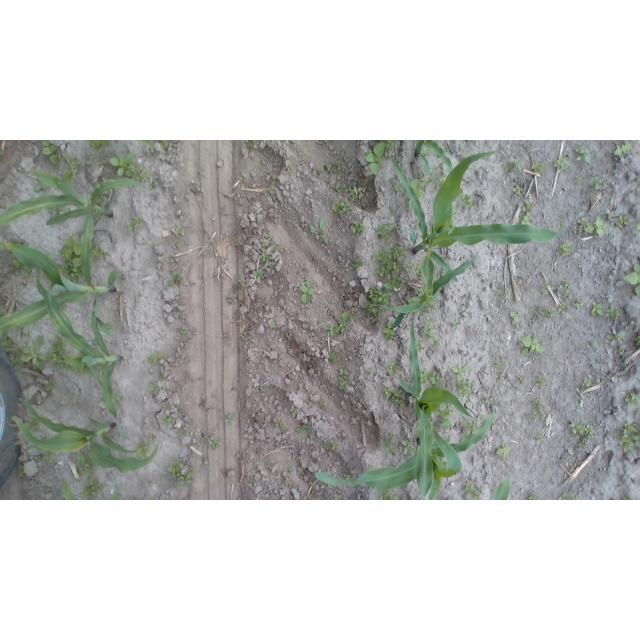Maize: (390, 151, 563, 283), (315, 395, 495, 499), (1, 214, 119, 337), (399, 320, 474, 501), (36, 276, 125, 418), (11, 391, 159, 474), (378, 230, 479, 329), (0, 169, 150, 226), (415, 141, 454, 180), (494, 474, 510, 500), (61, 477, 76, 500), (136, 141, 158, 150)
Weeds: (376, 242, 413, 291), (18, 335, 49, 368), (367, 287, 392, 325), (568, 421, 596, 452), (60, 234, 81, 274), (418, 320, 441, 351), (109, 152, 135, 179), (327, 311, 352, 339), (451, 363, 471, 397), (620, 421, 640, 454), (308, 216, 331, 244), (366, 143, 385, 176), (168, 460, 194, 484), (622, 263, 640, 297), (558, 278, 573, 315), (519, 336, 546, 356), (40, 140, 61, 165), (586, 216, 609, 238), (525, 398, 545, 422), (61, 154, 79, 180), (1, 336, 15, 369), (420, 369, 445, 387), (259, 232, 273, 264), (75, 452, 92, 477), (384, 387, 407, 405), (50, 335, 63, 366), (301, 279, 316, 304), (83, 480, 100, 499), (534, 305, 555, 319), (575, 148, 593, 164), (331, 199, 349, 215), (556, 240, 572, 258), (465, 484, 483, 500), (554, 156, 570, 173), (613, 143, 631, 158), (625, 391, 640, 409), (616, 213, 630, 232), (383, 434, 395, 456), (400, 439, 416, 455), (507, 157, 522, 173), (137, 441, 150, 459), (580, 375, 593, 393), (91, 141, 112, 152), (574, 218, 586, 237), (462, 421, 477, 436), (207, 435, 221, 451), (589, 175, 603, 191), (146, 352, 164, 364), (250, 270, 266, 283), (384, 323, 396, 340), (437, 408, 454, 420), (520, 199, 534, 213), (129, 218, 144, 231), (412, 178, 422, 197), (592, 302, 603, 319), (350, 187, 364, 200), (380, 492, 400, 501), (388, 363, 400, 378), (161, 414, 176, 426), (378, 223, 389, 239), (496, 446, 512, 457), (389, 226, 399, 243), (175, 327, 188, 340), (91, 246, 105, 258), (531, 162, 544, 174), (461, 196, 473, 209), (138, 166, 147, 182), (350, 221, 362, 233), (606, 309, 619, 320), (351, 260, 364, 271), (295, 425, 309, 435), (148, 382, 159, 394), (513, 185, 524, 197), (225, 413, 235, 426), (34, 182, 47, 192), (384, 141, 397, 151), (537, 373, 547, 386), (328, 352, 338, 365), (324, 443, 338, 452), (27, 419, 38, 430), (510, 311, 521, 322), (494, 362, 507, 371), (276, 420, 284, 434), (331, 182, 341, 193), (573, 300, 583, 311), (19, 463, 26, 478), (490, 395, 497, 410), (283, 463, 293, 473), (340, 380, 349, 391), (523, 215, 532, 226), (450, 321, 461, 330), (498, 290, 507, 301), (43, 454, 55, 462), (226, 292, 234, 304), (331, 166, 343, 174), (339, 369, 349, 378), (159, 141, 169, 150), (441, 422, 451, 431), (540, 283, 548, 294), (45, 383, 52, 395), (173, 272, 182, 281), (241, 331, 249, 341), (576, 176, 584, 186), (585, 340, 595, 348), (130, 497, 156, 500), (148, 435, 157, 443), (12, 260, 20, 269), (85, 156, 93, 165), (169, 257, 179, 264), (436, 174, 443, 184), (533, 436, 543, 443), (160, 403, 171, 409), (180, 428, 188, 436), (518, 374, 526, 382), (314, 168, 322, 176), (529, 493, 538, 500), (559, 493, 568, 500), (109, 494, 119, 500), (560, 456, 566, 466), (284, 479, 292, 486), (623, 496, 634, 501), (344, 473, 353, 479), (334, 494, 343, 500), (240, 281, 247, 288), (485, 162, 492, 169), (160, 373, 166, 381), (293, 410, 299, 418), (476, 413, 484, 419), (270, 173, 276, 181), (615, 334, 623, 340), (286, 334, 293, 340), (269, 323, 276, 329), (116, 397, 124, 402), (320, 401, 325, 409), (249, 142, 254, 150), (174, 230, 180, 236), (636, 224, 640, 233), (636, 337, 640, 346), (570, 496, 579, 500), (150, 181, 155, 188), (221, 212, 229, 216), (575, 401, 581, 406), (248, 483, 253, 488), (168, 281, 173, 286), (368, 368, 373, 373), (52, 381, 57, 385), (620, 348, 625, 352), (0, 151, 4, 155)
